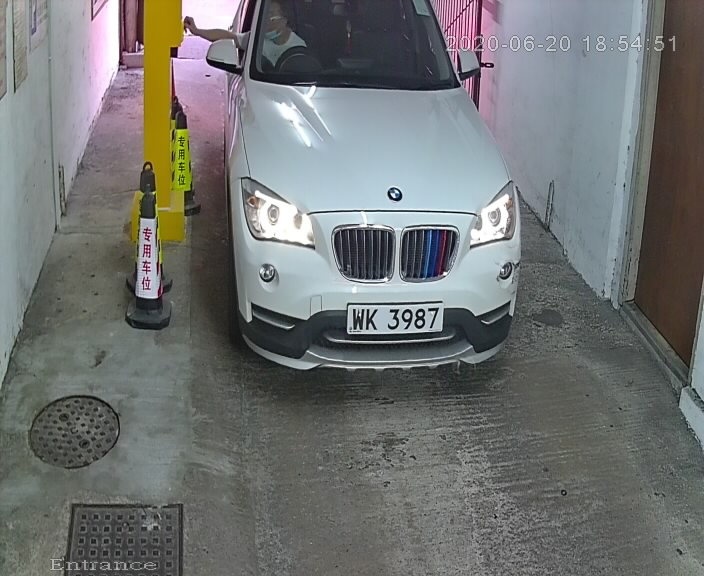privatecar: (181, 1, 547, 418)
